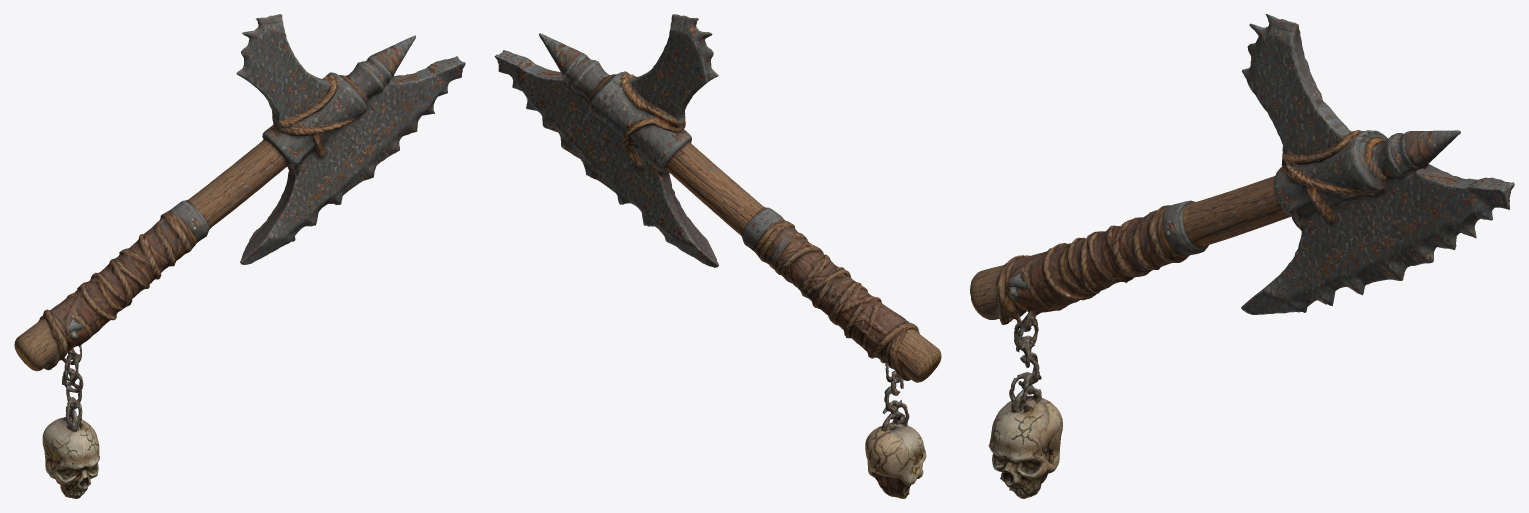
Rendered from OrcWarlordThrowingAxe.glb.
3 renders of one model, left to right at view 1: azimuth 30°, elevation 25°; view 2: azimuth 150°, elevation 25°; view 3: azimuth 330°, elevation 25°, orthographic. The views are drawn at different scales.
Parts seen in each view (by area): view 1: texture_mapping; view 2: texture_mapping; view 3: texture_mapping.
Part boxes in pixels (x1,y1,x2,y2): texture_mapping: (14, 14, 465, 498); texture_mapping: (494, 14, 941, 498); texture_mapping: (970, 14, 1514, 498).
Bounding box in the file's own units: 0.9917 × 0.9294 × 0.1369.
Materials: 1 (1 with a texture image).
